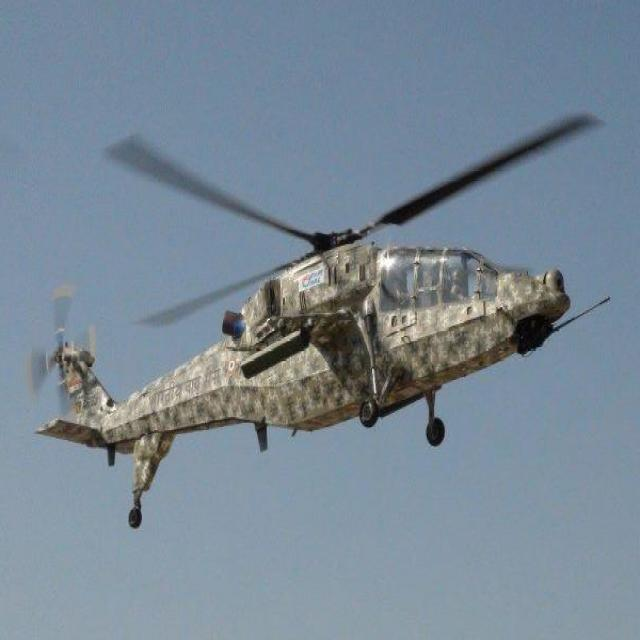helicopter: (26, 103, 632, 536)
